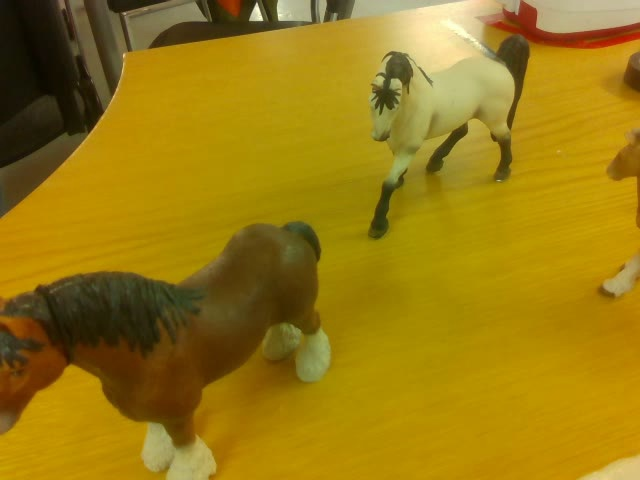toy: (1, 221, 333, 480), (366, 33, 532, 240)
